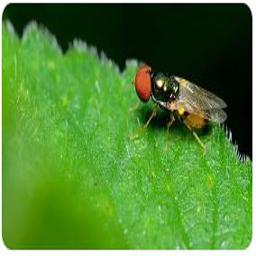liriomyza: (131, 65, 227, 150)
